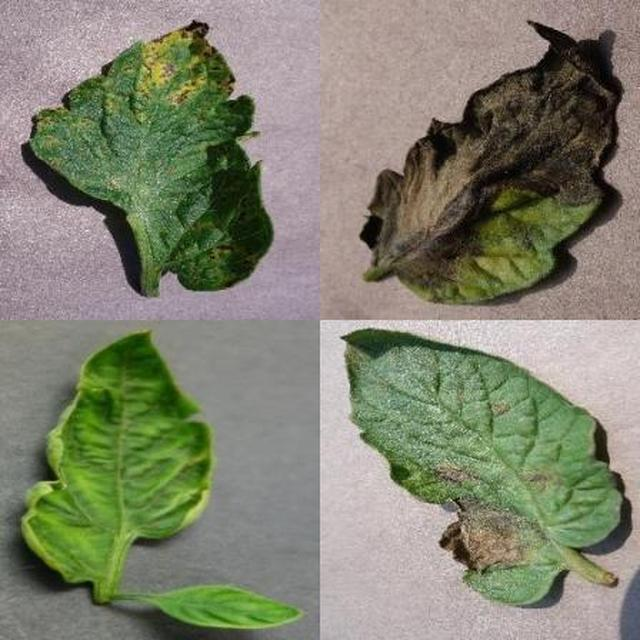Septoria Leaf: (167, 61, 640, 640)
